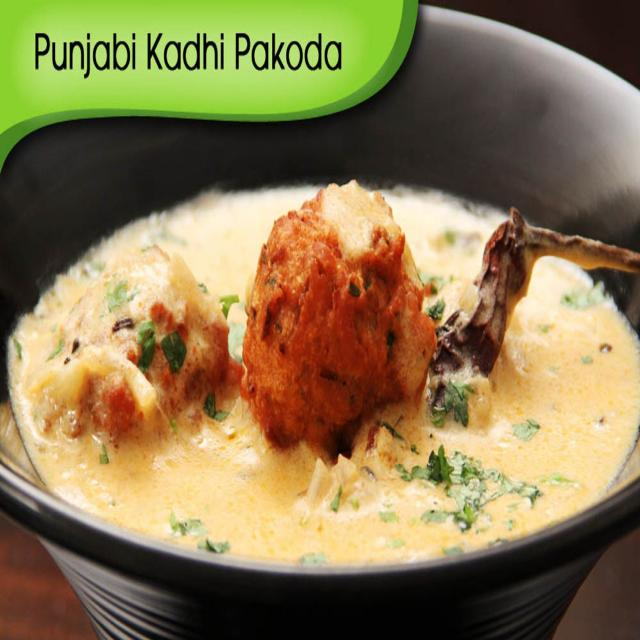Kadhi Pakora: (7, 181, 640, 566)
